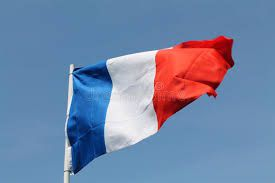French Flag: (69, 36, 235, 173)
